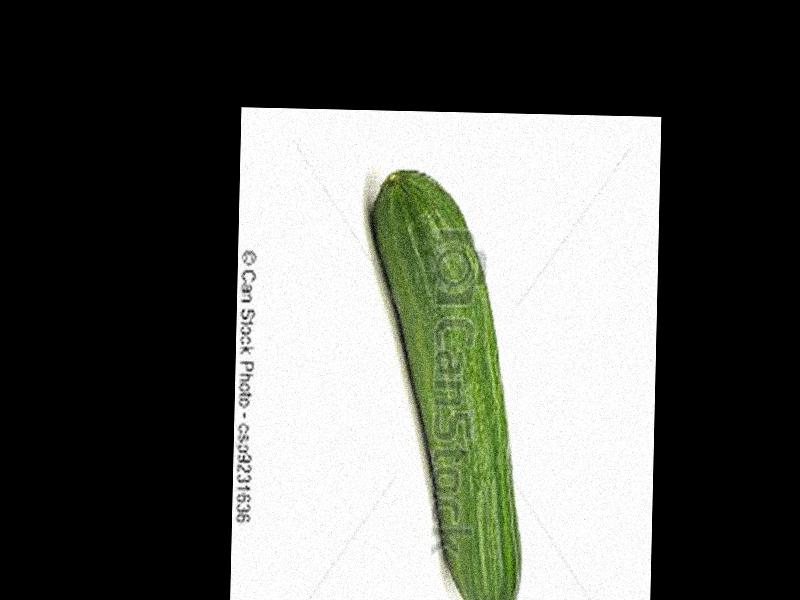Cucumber: (361, 172, 528, 600)
